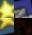star: (0, 0, 14, 18), (0, 18, 14, 33)
